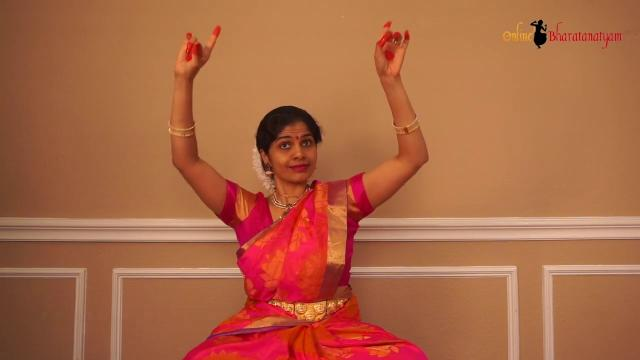soochi: (168, 12, 238, 92)
